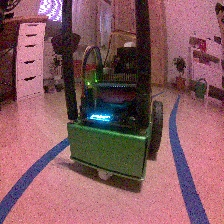rob: (65, 40, 164, 183)
